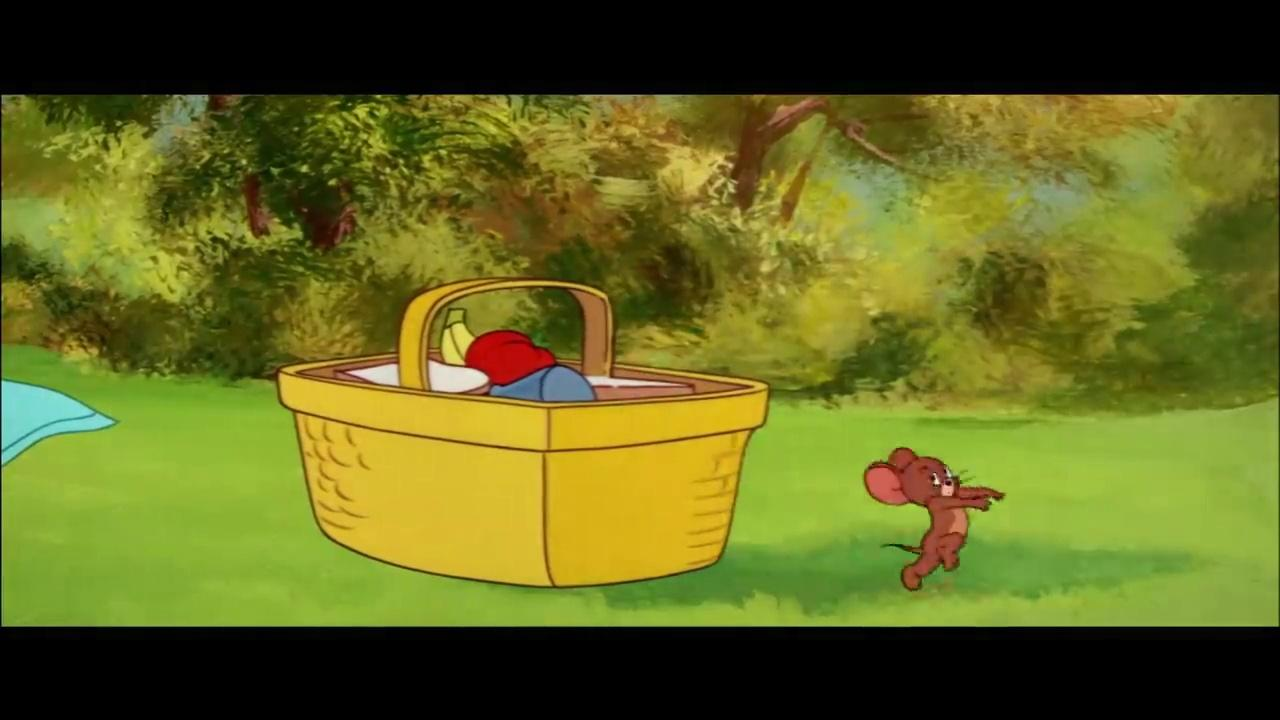Jerry: (863, 445, 1007, 592)
